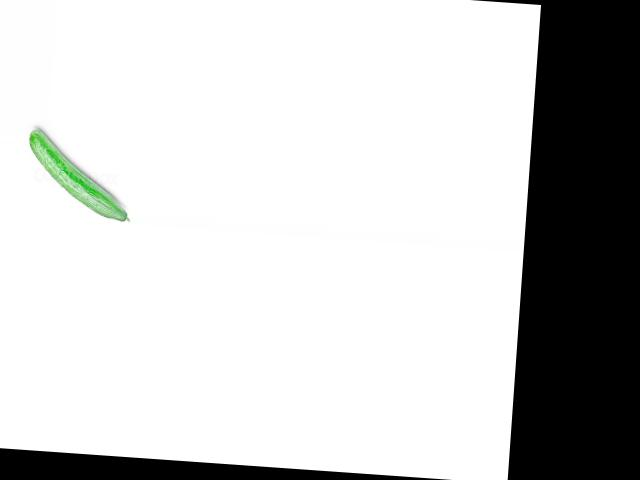cucumber: (24, 128, 137, 222)
